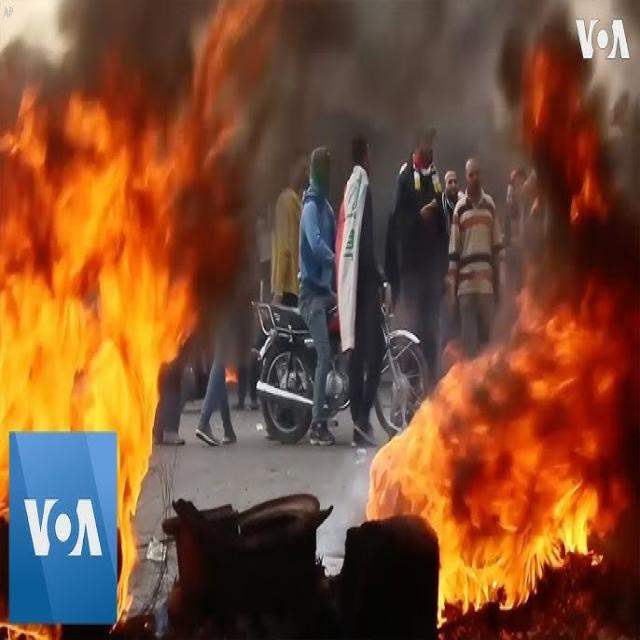fire: (0, 0, 283, 640), (366, 20, 640, 640)
